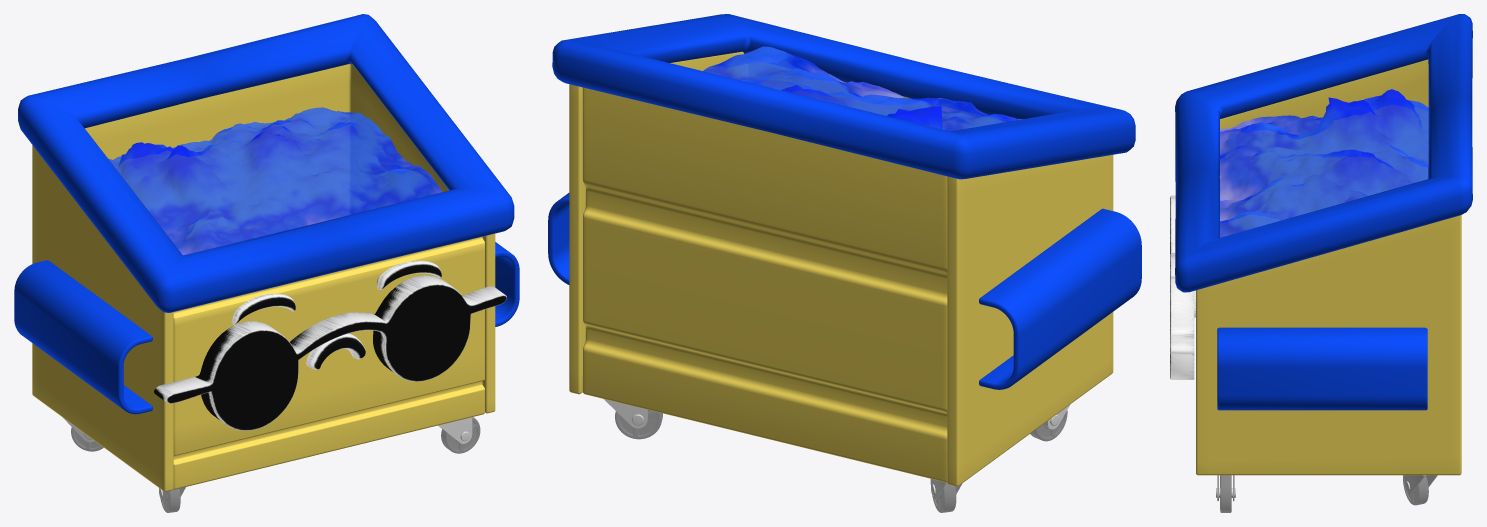
3 views of the same model, side by side, from view 1: azimuth 30°, elevation 25°; view 2: azimuth 150°, elevation 25°; view 3: azimuth 270°, elevation 25° (orthographic). The views are drawn at different scales.
Parts seen in each view (by area): view 1: Dumpster Geometry, Explosion Fire Base.002, Wheel Holder; view 2: Dumpster Geometry, Explosion Fire Base.002, Wheel Holder; view 3: Dumpster Geometry, Explosion Fire Base.002, Wheel Holder.
Boxes of the visible parts, box(x1,y1,x2,y2) form: Dumpster Geometry: box(14, 14, 519, 512); Explosion Fire Base.002: box(108, 107, 441, 254); Wheel Holder: box(63, 417, 472, 501); Dumpster Geometry: box(548, 14, 1141, 512); Explosion Fire Base.002: box(703, 46, 1022, 131); Wheel Holder: box(604, 399, 1070, 499); Dumpster Geometry: box(1170, 14, 1472, 512); Explosion Fire Base.002: box(1219, 89, 1428, 237); Wheel Holder: box(1216, 475, 1437, 501).
Size of what is drawn, in the model's own units: 2.3 by 1.89 by 1.51.
Materials: 8 (4 with a texture image).
